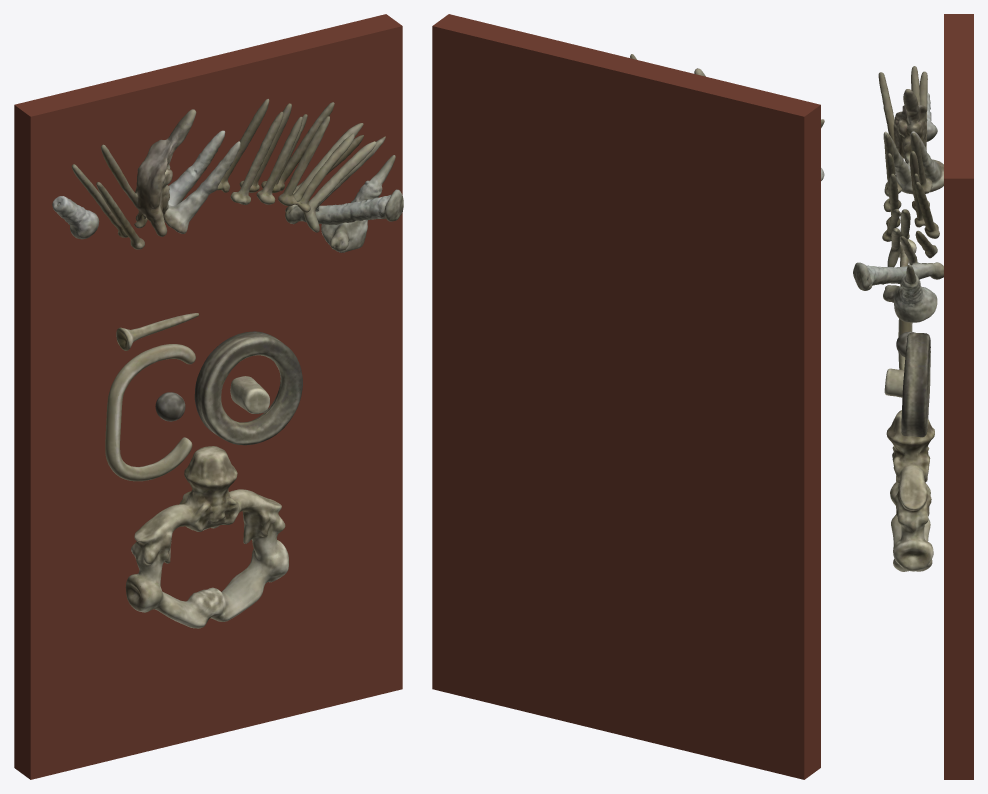
The model's file is full.glb.
3 views of the same model, side by side, from view 1: azimuth 30°, elevation 25°; view 2: azimuth 150°, elevation 25°; view 3: azimuth 270°, elevation 25° (orthographic). The views are drawn at different scales.
Visible parts, largest first — view 1: board, trellis; view 2: board; view 3: board, trellis.
Boxes of the visible parts, x1,y1,x2,y2 form: board: (14, 14, 402, 779); trellis: (52, 98, 403, 628); board: (432, 14, 820, 779); board: (944, 14, 973, 779); trellis: (853, 66, 943, 571).
Bounding box in the file's own units: 0.5871 × 1 × 0.1821.
2 materials, 1 textured.
